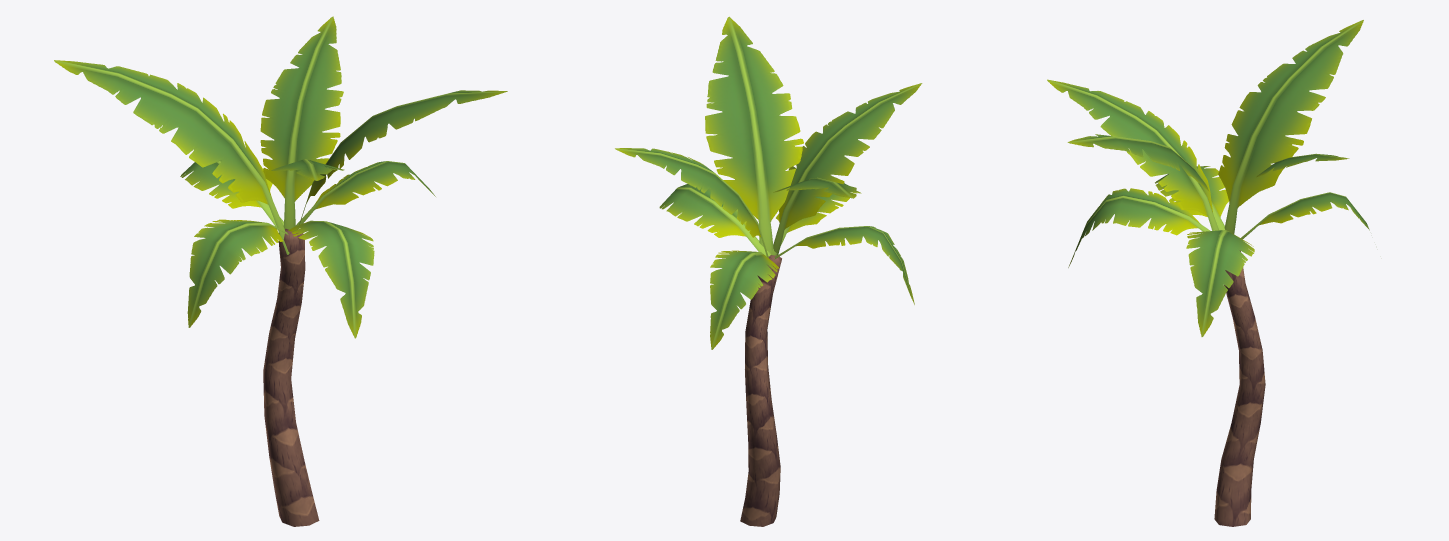
Rendered from palm-3.glb.
3 views of the same model, side by side, from view 1: azimuth 30°, elevation 25°; view 2: azimuth 150°, elevation 25°; view 3: azimuth 270°, elevation 25° (orthographic). The views are drawn at different scales.
Parts seen in each view (by area): view 1: PalmTree_3; view 2: PalmTree_3; view 3: PalmTree_3.
Boxes of the visible parts, <box> form: PalmTree_3: <box>54,16,507,526</box>; PalmTree_3: <box>615,16,922,526</box>; PalmTree_3: <box>1047,20,1369,526</box>.
Bounding box in the file's own units: 4.47 × 4.67 × 4.22.
Materials: 2 (2 with a texture image).
